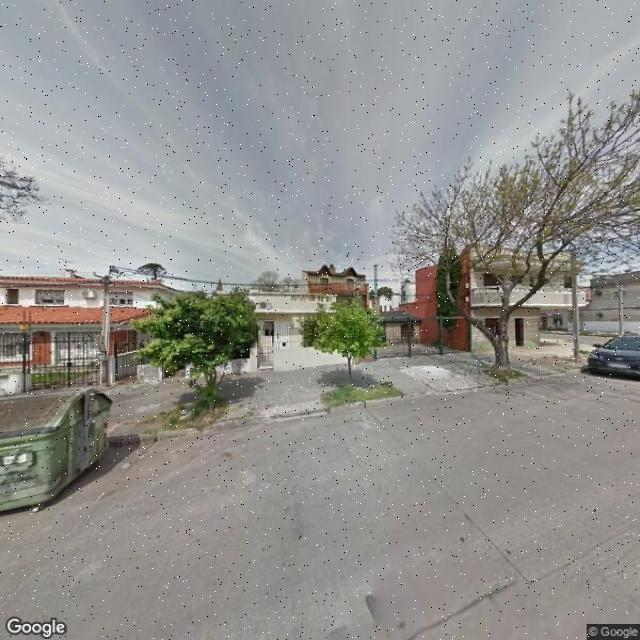garbage container: (2, 381, 130, 524)
